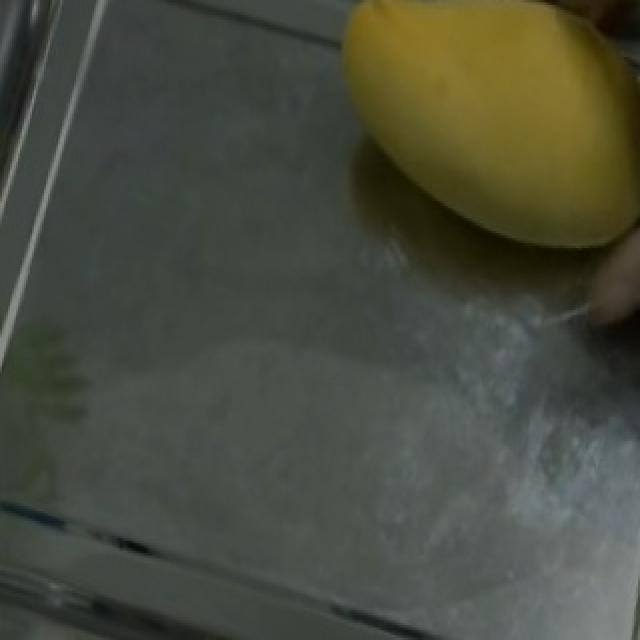fruit: (308, 2, 640, 286)
